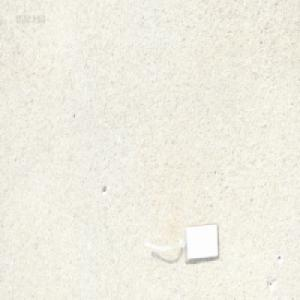LuggageTag: (142, 221, 219, 263)
